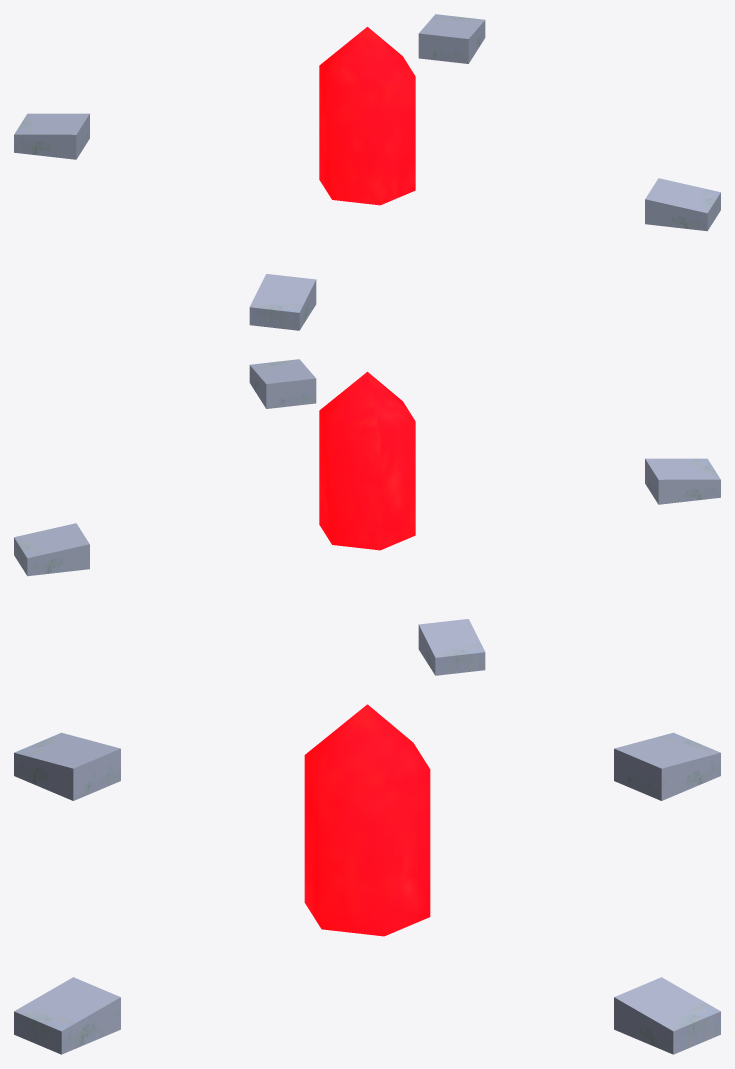
Rendered from windsock-light-cbj_LOD03.gltf.
3 views of the same model, one above another, from view 1: azimuth 30°, elevation 25°; view 2: azimuth 150°, elevation 25°; view 3: azimuth 270°, elevation 25° (orthographic). The views are drawn at different scales.
Visible parts, largest first — view 1: Cube.002; view 2: Cube.002; view 3: Cube.002.
Part boxes in pixels (x1,y1,x2,y2): Cube.002: (14, 14, 720, 330); Cube.002: (14, 359, 720, 675); Cube.002: (14, 704, 720, 1054).
Size of what is drawn, in the model's own units: 2.53 by 0.8111 by 2.53.
